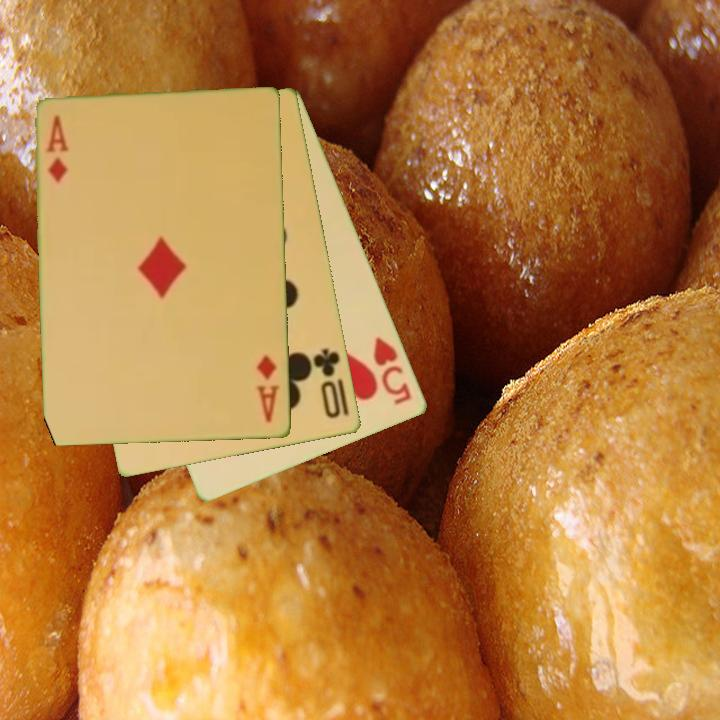10c: (310, 345, 344, 422)
5h: (370, 333, 415, 408)
Ad: (253, 352, 283, 426), (43, 111, 72, 186)
